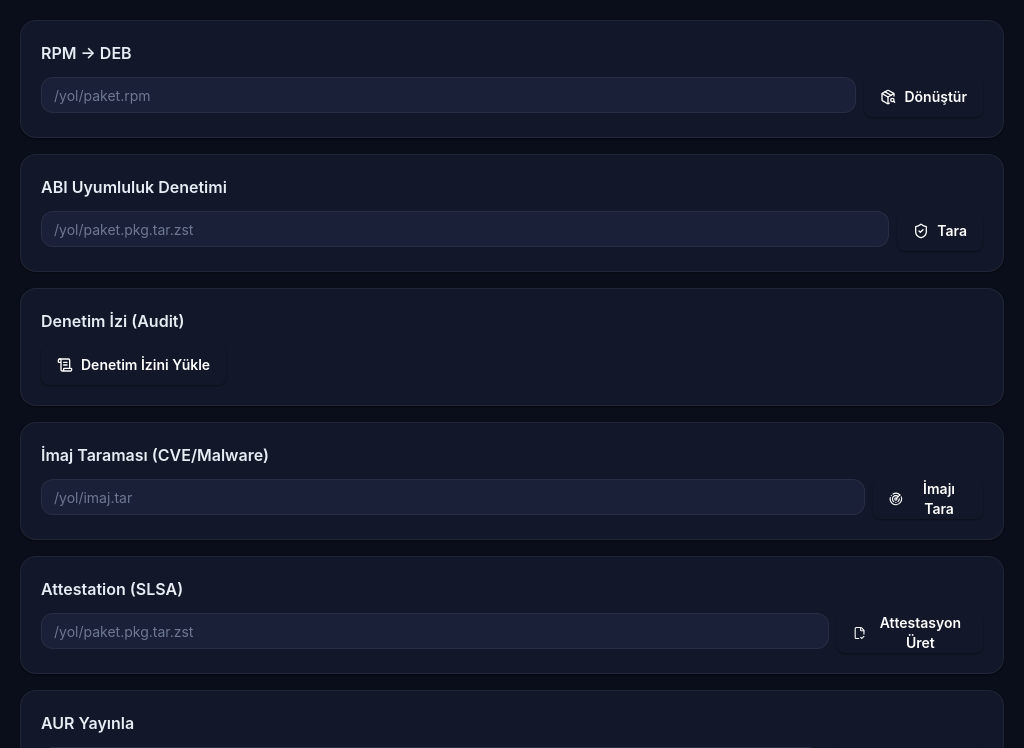
Test: Tools page (Feature Tezgahi) › loads and shows audit report
Click the button "Denetim İzini Yükle".
click(134, 365)  # box top-left (41, 345), bottom-right (226, 385)
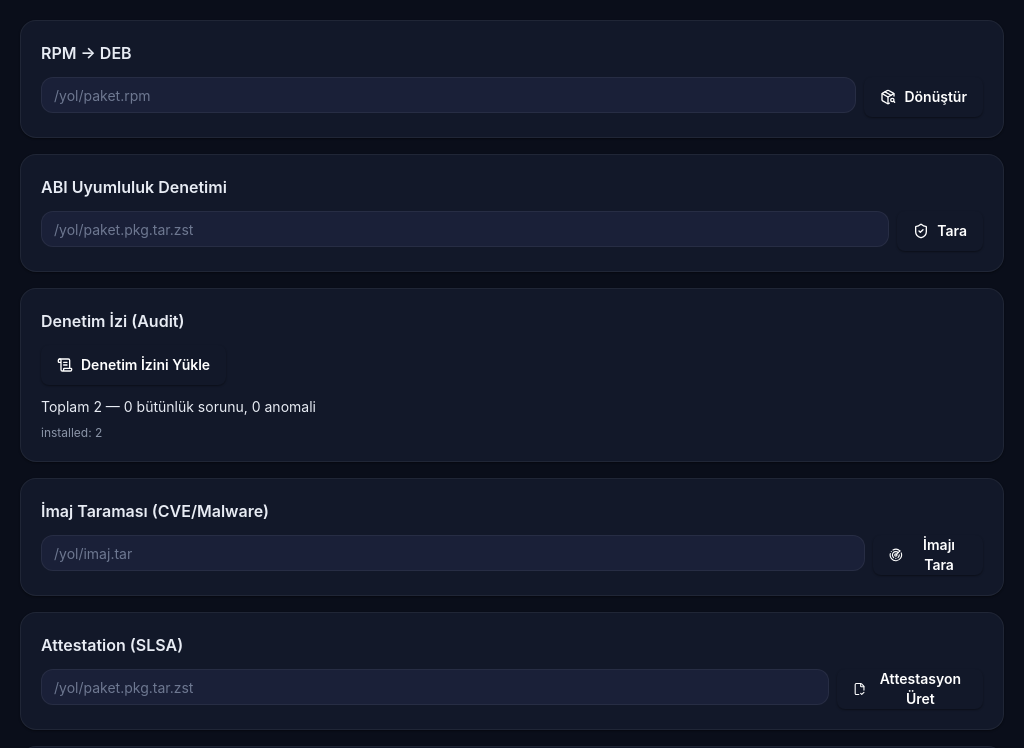
Expected: the text "Toplam 2 — 0 bütünlük sorunu, 0 anomali" is shown, top-left (41, 398), bottom-right (316, 415)
Expected: the list item "installed: 2" is shown, top-left (41, 425), bottom-right (102, 440)
